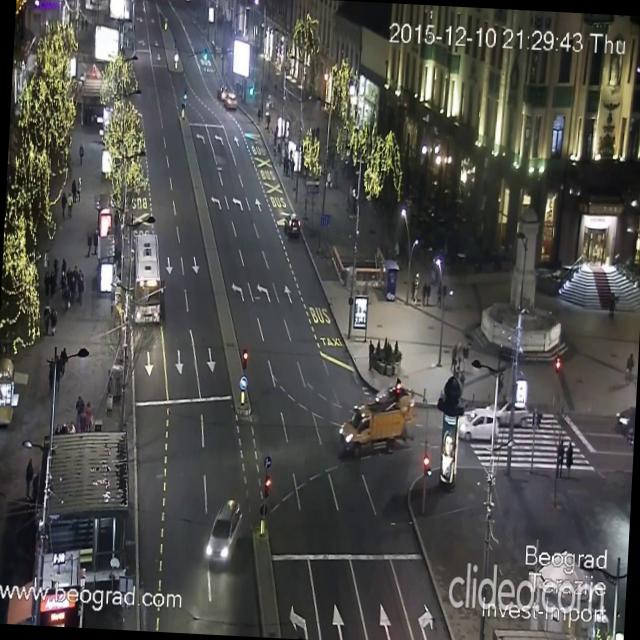bus: (130, 225, 162, 321)
car: (204, 497, 244, 568), (451, 406, 496, 443), (491, 396, 531, 428), (618, 402, 636, 433), (283, 212, 301, 239), (225, 92, 238, 111), (218, 84, 230, 103)
truck: (341, 390, 416, 456)
